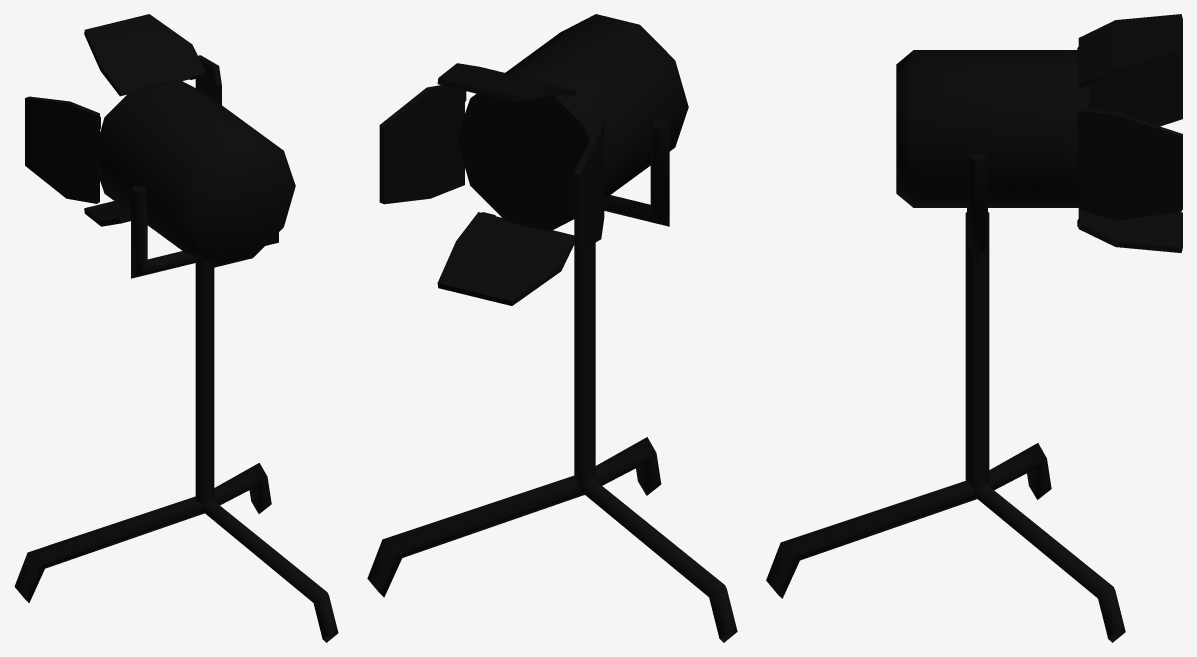
The model's file is SM_Spotlight.FBX.
The picture shows the model from 3 angles, left to right: view 1: azimuth 30°, elevation 25°; view 2: azimuth 150°, elevation 25°; view 3: azimuth 270°, elevation 25°; orthographic projection. The views are drawn at different scales.
Visible parts, largest first — view 1: Spotlight; view 2: Spotlight; view 3: Spotlight.
Part boxes in pixels (x1,y1,x2,y2): Spotlight: [14, 14, 338, 642]; Spotlight: [367, 14, 737, 642]; Spotlight: [766, 14, 1182, 642].
Size of the model in its own units: 62.12 by 103 by 70.48.
1 material, 1 textured.
